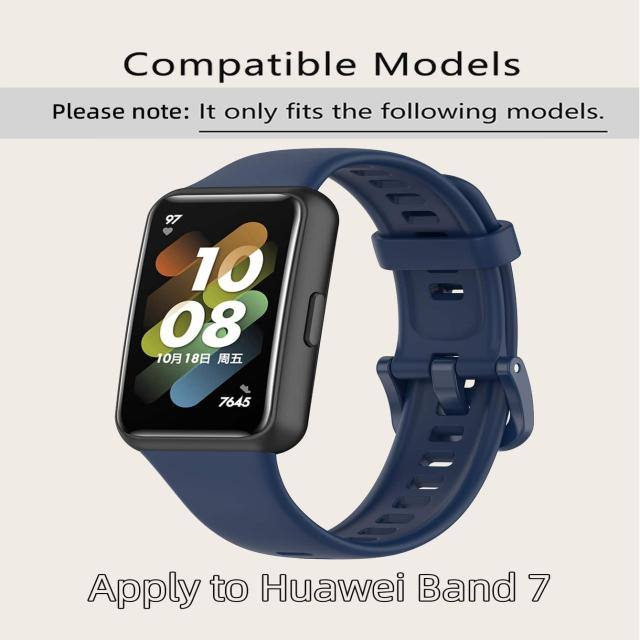bracelet: (61, 101, 590, 568)
